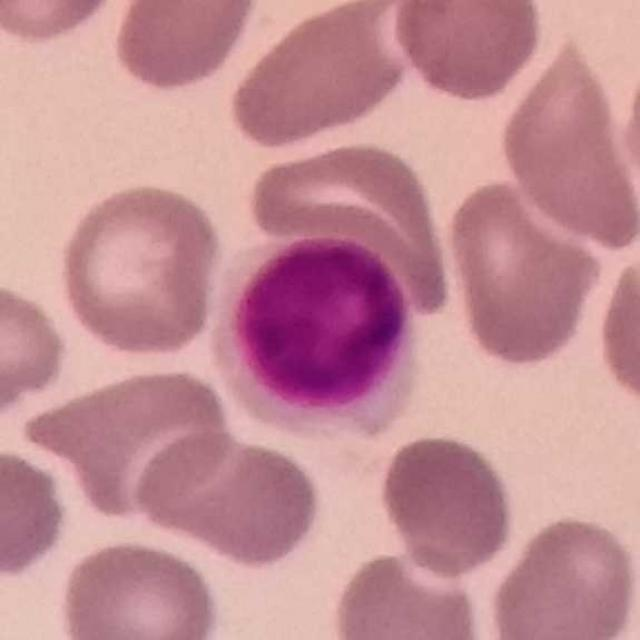Lymphocyte: (209, 220, 430, 448)
RBC: (244, 132, 456, 325), (28, 362, 236, 526), (493, 29, 640, 256), (440, 172, 606, 372), (55, 177, 227, 361), (222, 0, 418, 154), (129, 425, 326, 570), (375, 428, 520, 580), (485, 511, 640, 640), (55, 535, 224, 640), (388, 0, 548, 105), (327, 543, 489, 640), (107, 0, 264, 93), (0, 277, 73, 424), (0, 443, 73, 582), (593, 237, 640, 415), (0, 0, 124, 47), (616, 38, 640, 227)
